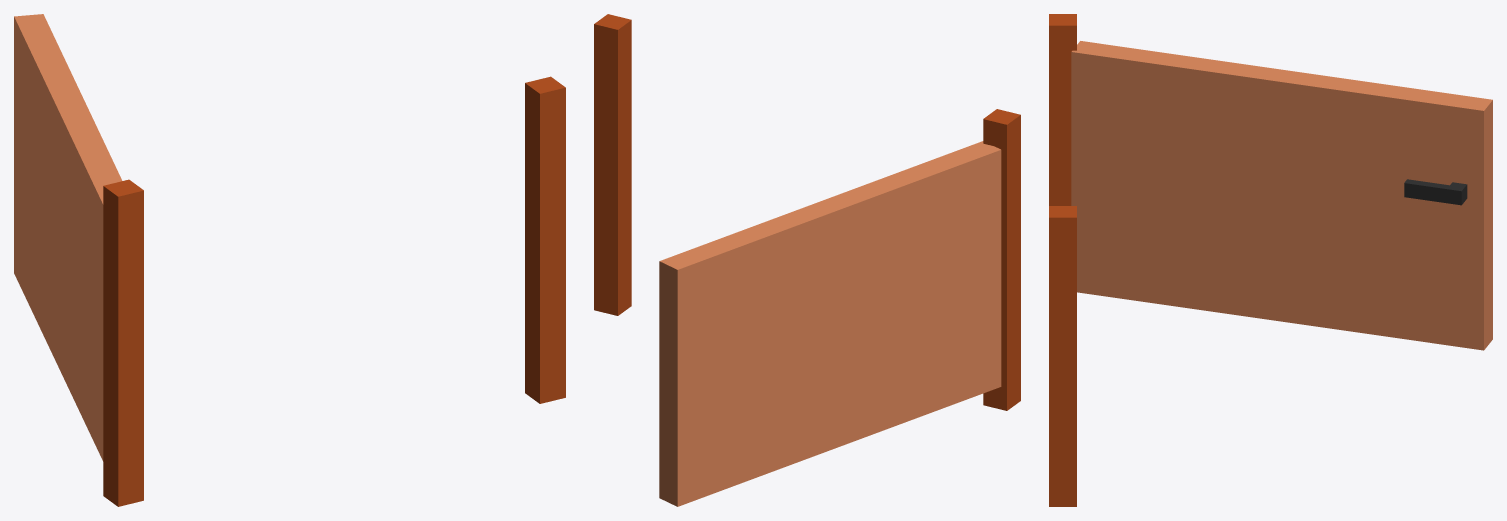
The model's file is Puerta Abierta.fbx.
3 renders of one model, left to right at view 1: azimuth 30°, elevation 25°; view 2: azimuth 150°, elevation 25°; view 3: azimuth 270°, elevation 25°, orthographic. The views are drawn at different scales.
Parts seen in each view (by area): view 1: Cube.001, Cube.002, Cube.003; view 2: Cube.001, Cube.002, Cube.003; view 3: Cube.001, Cube.002, Cube.003, Cube.004.
Part boxes in pixels (box(x1,y1,x2,y2)): Cube.001: box(14, 14, 122, 461); Cube.002: box(525, 76, 565, 403); Cube.003: box(103, 179, 143, 506); Cube.001: box(659, 141, 1001, 506); Cube.002: box(594, 14, 631, 315); Cube.003: box(983, 109, 1020, 410); Cube.001: box(1071, 41, 1492, 350); Cube.002: box(1049, 206, 1076, 506); Cube.003: box(1049, 14, 1076, 205); Cube.004: box(1404, 179, 1467, 205).
Size of the model in its own units: 152 by 101 by 140.
